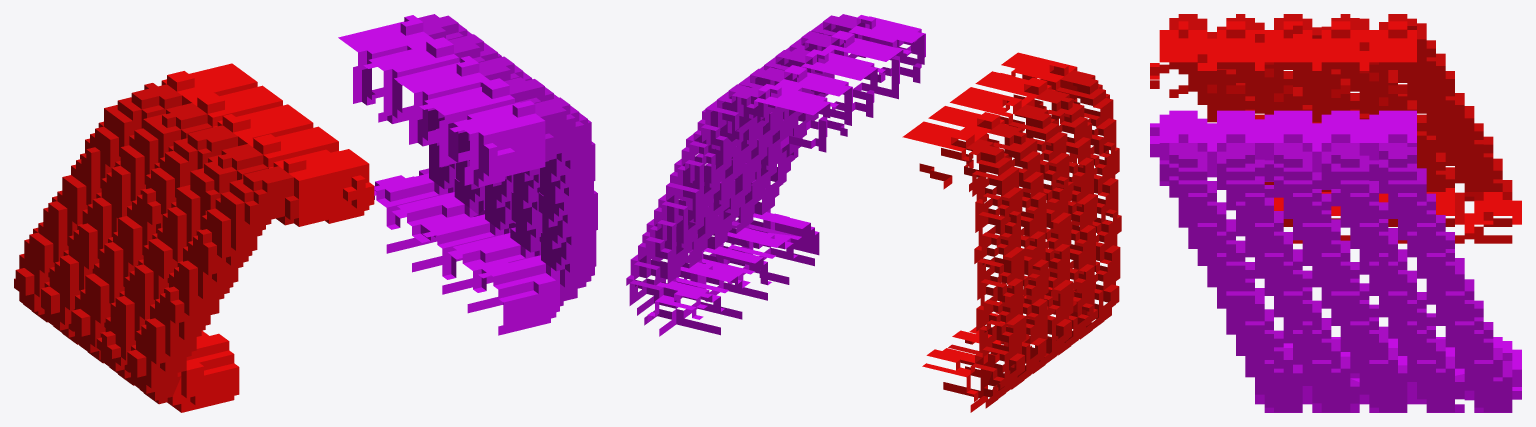
File: weapon_hellfire_launcher_pipes2-2.fbx
The picture shows the model from 3 angles, left to right: view 1: azimuth 30°, elevation 25°; view 2: azimuth 150°, elevation 25°; view 3: azimuth 270°, elevation 25°; orthographic projection. The views are drawn at different scales.
Visible parts, largest first — view 1: weapon_hellfire_launcher_pipes; view 2: weapon_hellfire_launcher_pipes; view 3: weapon_hellfire_launcher_pipes.
Boxes of the visible parts, <box> form: weapon_hellfire_launcher_pipes: <box>14,14,597,412</box>; weapon_hellfire_launcher_pipes: <box>626,14,1121,412</box>; weapon_hellfire_launcher_pipes: <box>1150,14,1521,412</box>.
Size of the model in its own units: 268 by 150 by 201.
